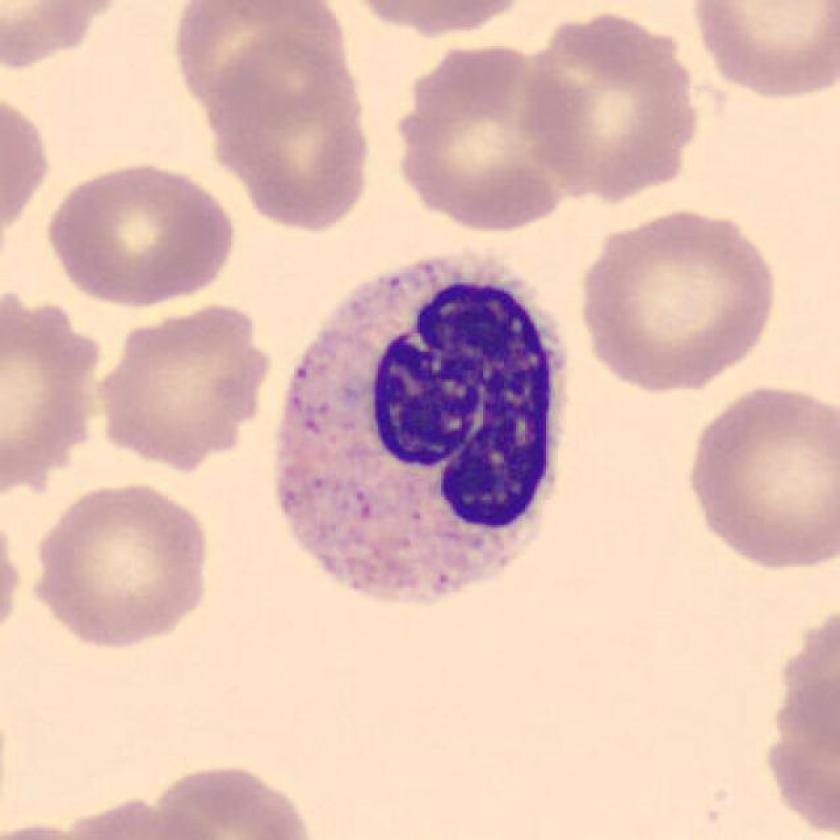neutrophil: (283, 260, 564, 598)
